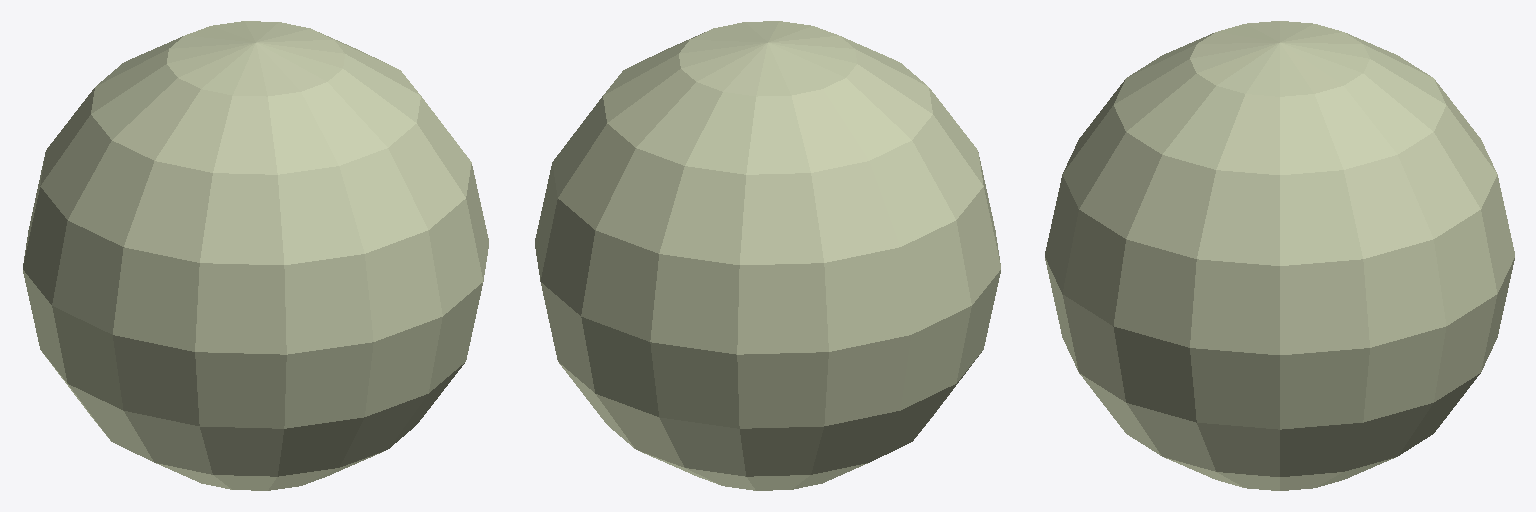
Rendered from sfera.obj.
The picture shows the model from 3 angles: view 1: azimuth 30°, elevation 25°; view 2: azimuth 150°, elevation 25°; view 3: azimuth 270°, elevation 25°; orthographic projection.
Visible parts, largest first — view 1: sphere2; view 2: sphere2; view 3: sphere2.
Boxes of the visible parts, box(x1,y1,x2,y2) form: sphere2: box(23, 21, 488, 490); sphere2: box(535, 21, 1000, 490); sphere2: box(1045, 21, 1514, 490).
Size of the model in its own units: 2 by 2 by 2.